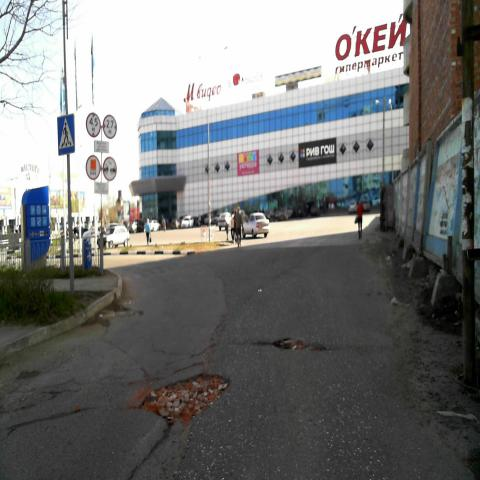3_14: (103, 113, 117, 139)
3_16: (102, 156, 116, 182)
3_32: (86, 154, 100, 182)
